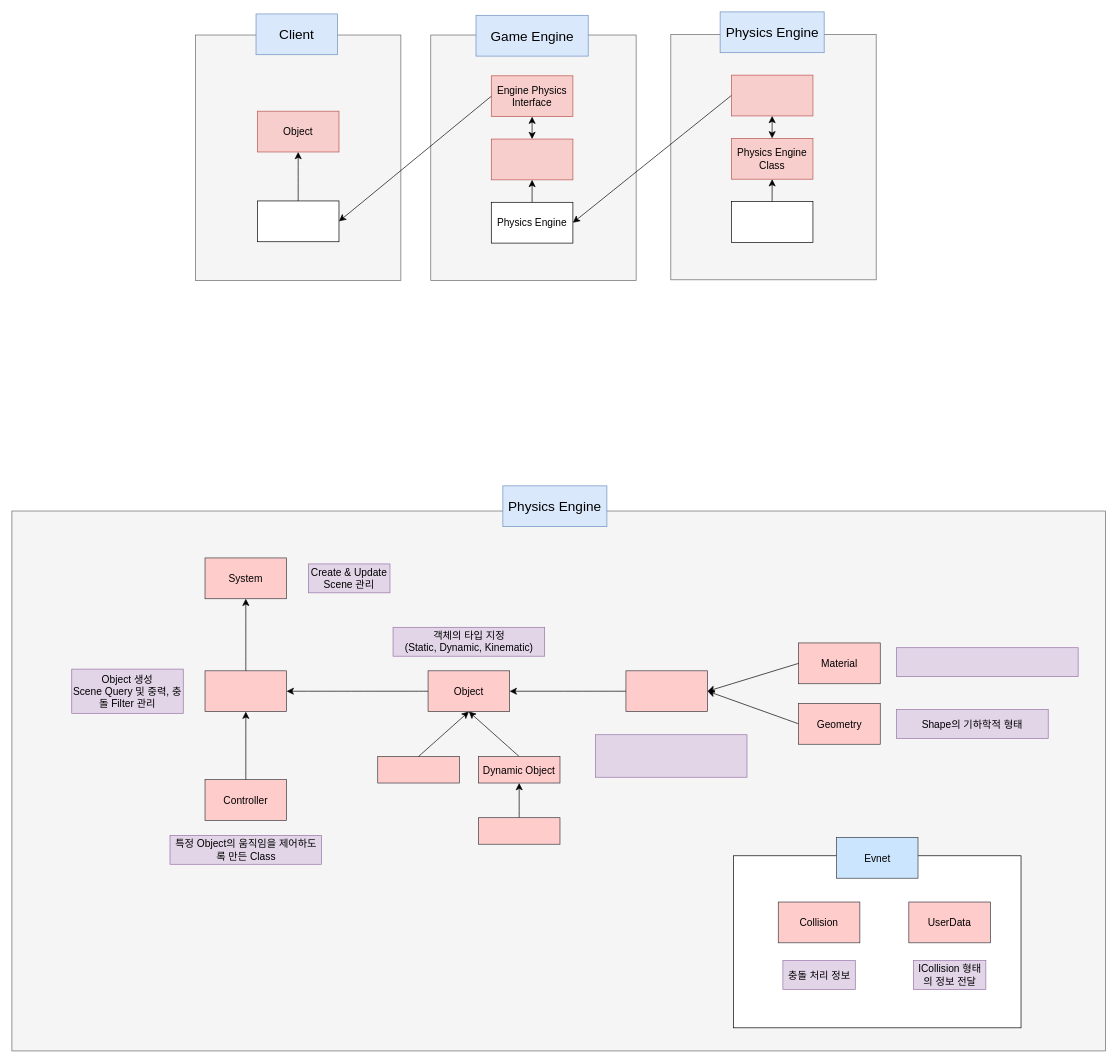
Some shapes in this 1117 by 1063 pixel diagram are drawn without their labels. Each missing label, with the box of its shape:
Game Engine Physics Modules: (491, 138, 573, 180)
Kinematic Object: (478, 817, 560, 844)
Object의 물리 형태 정의 (Simulation, Trigger, Query) Transform 보유: (595, 734, 747, 777)
Physical Component: (257, 200, 339, 242)
Physics Interface: (731, 74, 813, 116)
PhysX: (731, 201, 813, 242)
Scene: (204, 670, 287, 712)
Shape: (625, 670, 708, 712)
Static Object: (377, 756, 459, 783)
물리적 재질 ( 정지마찰계수, 동적마찰계수, 반발계수 ): (896, 647, 1078, 677)
